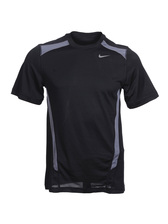clothoes: (12, 31, 160, 195)
